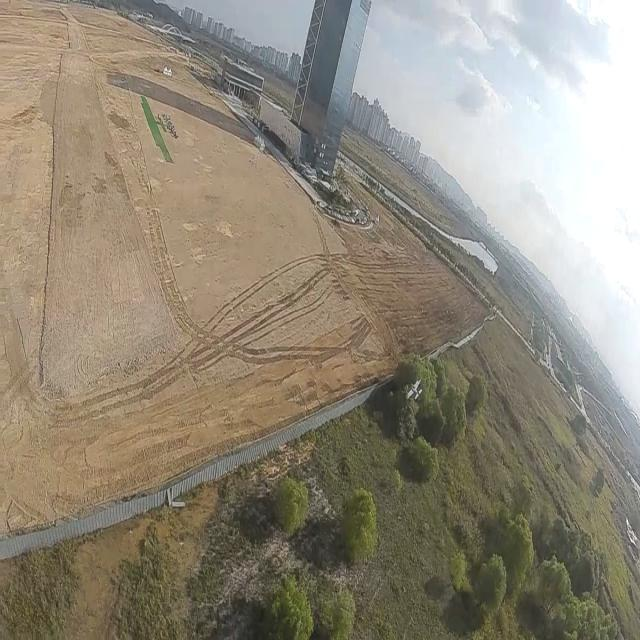iha: (100, 0, 415, 166)
